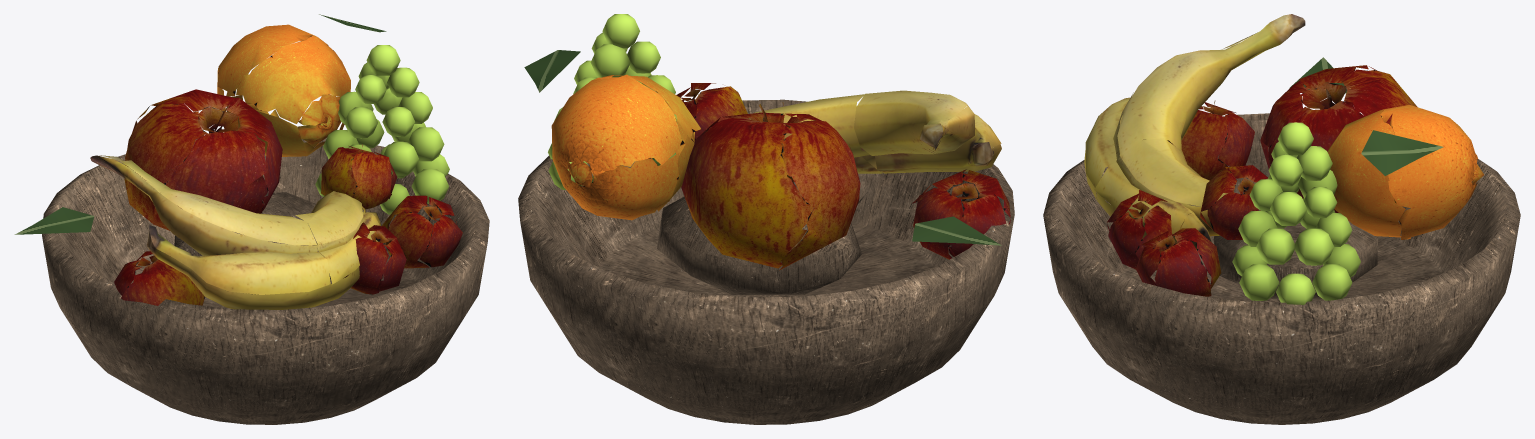
Rendered from mm7_deco_fruit_bowl.glb.
The picture shows the model from 3 angles, left to right: view 1: azimuth 30°, elevation 25°; view 2: azimuth 150°, elevation 25°; view 3: azimuth 270°, elevation 25°; orthographic projection. The views are drawn at different scales.
Parts seen in each view (by area): view 1: Fruitbowl; view 2: Fruitbowl; view 3: Fruitbowl.
Part boxes in pixels (x1,y1,x2,y2): Fruitbowl: [14, 14, 489, 424]; Fruitbowl: [518, 14, 1014, 424]; Fruitbowl: [1043, 14, 1520, 424].
Size of the model in its own units: 0.3772 by 0.2451 by 0.344.
6 materials, 6 textured.
